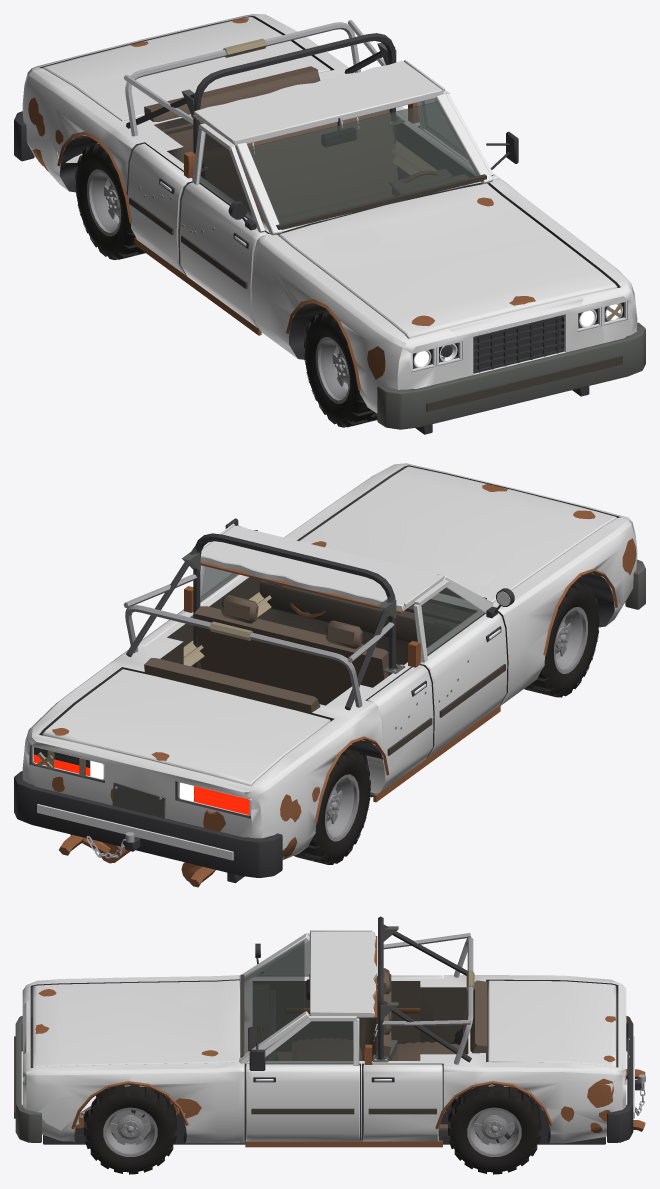
The model's file is player_sedan_t1.glb.
3 views of the same model, one above another, from view 1: azimuth 30°, elevation 25°; view 2: azimuth 150°, elevation 25°; view 3: azimuth 270°, elevation 25° (orthographic). The views are drawn at different scales.
Visible parts, largest first — view 1: body_mesh, panel_hood, panel_trunk, panel_door_R, panel_bumper_F, panel_door_R2, wheel_FR_tire, wheel_RR_tire, panel_door_L, wheel_FR_rim, wheel_RR_rim, panel_bumper_R; view 2: body_mesh, panel_hood, panel_trunk, panel_door_R, panel_bumper_R, panel_door_R2, wheel_RR_tire, wheel_FR_tire, wheel_RR_rim, wheel_FR_rim, panel_door_L, panel_bumper_F; view 3: body_mesh, panel_hood, panel_door_L, panel_trunk, panel_door_L2, wheel_RL_tire, wheel_FL_tire, wheel_FL_rim, wheel_RL_rim, panel_bumper_R, panel_bumper_F, panel_door_R.
Boxes of the visible parts, left/top/right/bottom form: body_mesh: left=22, top=14, right=637, bottom=434; panel_hood: left=279, top=183, right=617, bottom=338; panel_trunk: left=43, top=17, right=330, bottom=121; panel_door_R: left=179, top=123, right=267, bottom=328; panel_bumper_F: left=377, top=322, right=645, bottom=429; panel_door_R2: left=128, top=143, right=192, bottom=274; wheel_FR_tire: left=304, top=311, right=377, bottom=427; wheel_RR_tire: left=75, top=143, right=145, bottom=259; panel_door_L: left=417, top=90, right=518, bottom=178; wheel_FR_rim: left=315, top=337, right=349, bottom=403; wheel_RR_rim: left=87, top=169, right=121, bottom=236; panel_bumper_R: left=14, top=111, right=34, bottom=161; body_mesh: left=22, top=463, right=637, bottom=887; panel_hood: left=299, top=466, right=616, bottom=602; panel_trunk: left=42, top=669, right=330, bottom=818; panel_door_R: left=413, top=579, right=514, bottom=756; panel_bumper_R: left=14, top=771, right=282, bottom=877; panel_door_R2: left=367, top=665, right=433, bottom=793; wheel_RR_tire: left=294, top=749, right=370, bottom=864; wheel_FR_tire: left=524, top=581, right=599, bottom=697; wheel_RR_rim: left=325, top=774, right=359, bottom=841; wheel_FR_rim: left=554, top=607, right=587, bottom=673; panel_door_L: left=200, top=518, right=257, bottom=605; panel_bumper_F: left=625, top=559, right=645, bottom=609; body_mesh: left=22, top=916, right=645, bottom=1147; panel_hood: left=32, top=980, right=240, bottom=1067; panel_door_L: left=246, top=1016, right=359, bottom=1141; panel_trunk: left=488, top=980, right=629, bottom=1074; panel_door_L2: left=363, top=1064, right=442, bottom=1141; wheel_RL_tire: left=448, top=1084, right=541, bottom=1174; wheel_FL_tire: left=84, top=1084, right=176, bottom=1174; wheel_FL_rim: left=103, top=1107, right=157, bottom=1156; wheel_RL_rim: left=467, top=1107, right=521, bottom=1156; panel_bumper_R: left=607, top=1016, right=645, bottom=1142; panel_bumper_F: left=14, top=1016, right=41, bottom=1142; panel_door_R: left=252, top=932, right=309, bottom=1013.
Bounding box in the file's own units: 2.18 × 1.67 × 5.28.
